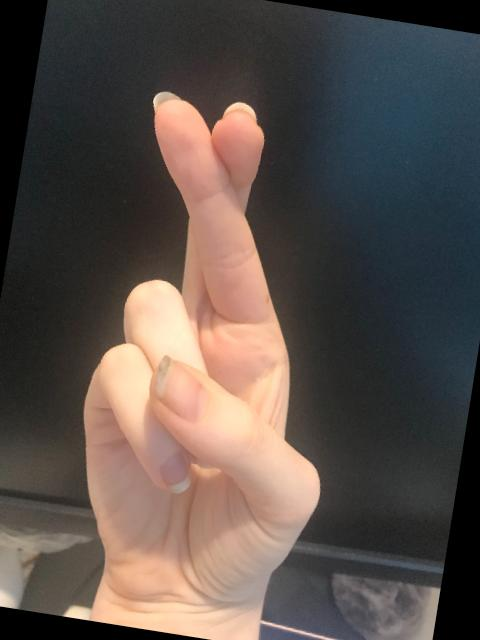R: (48, 77, 384, 634)
